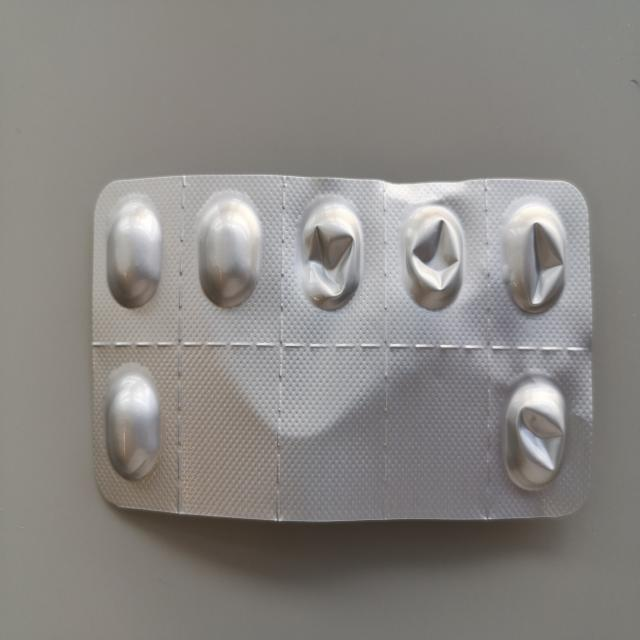Empty: (290, 185, 368, 319), (496, 193, 571, 326), (394, 196, 471, 319)
Pill: (94, 363, 170, 492), (191, 190, 263, 312), (99, 188, 165, 315)
